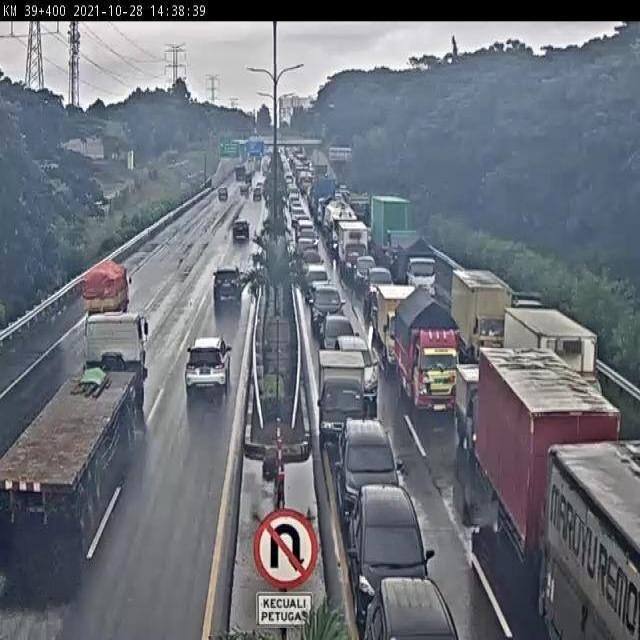car: (355, 488, 432, 585), (337, 414, 410, 510), (176, 317, 242, 408), (373, 580, 442, 640), (339, 328, 376, 401), (204, 278, 242, 334), (324, 316, 358, 353), (314, 285, 343, 324), (370, 267, 396, 303)
truck: (9, 309, 139, 599), (470, 352, 619, 596), (554, 448, 636, 632), (499, 298, 588, 426), (383, 285, 468, 384), (397, 285, 457, 415), (449, 264, 509, 359), (319, 348, 363, 449), (398, 236, 441, 303), (73, 271, 119, 332), (229, 224, 249, 251)
